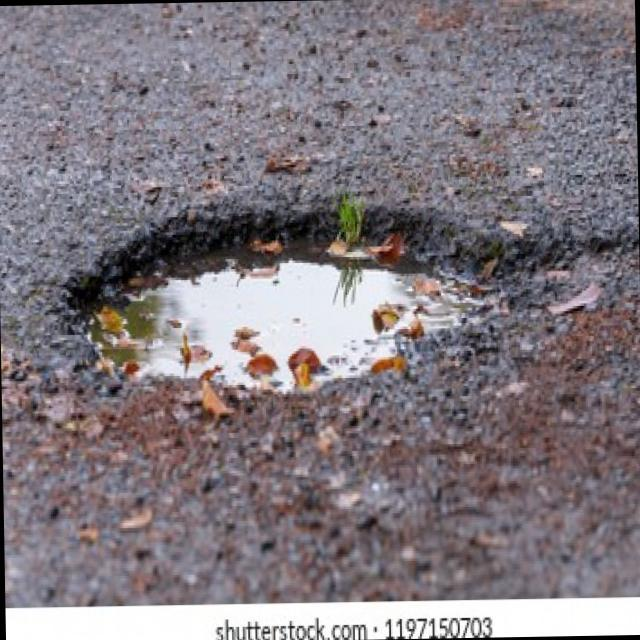Pothole: (59, 193, 536, 420)
